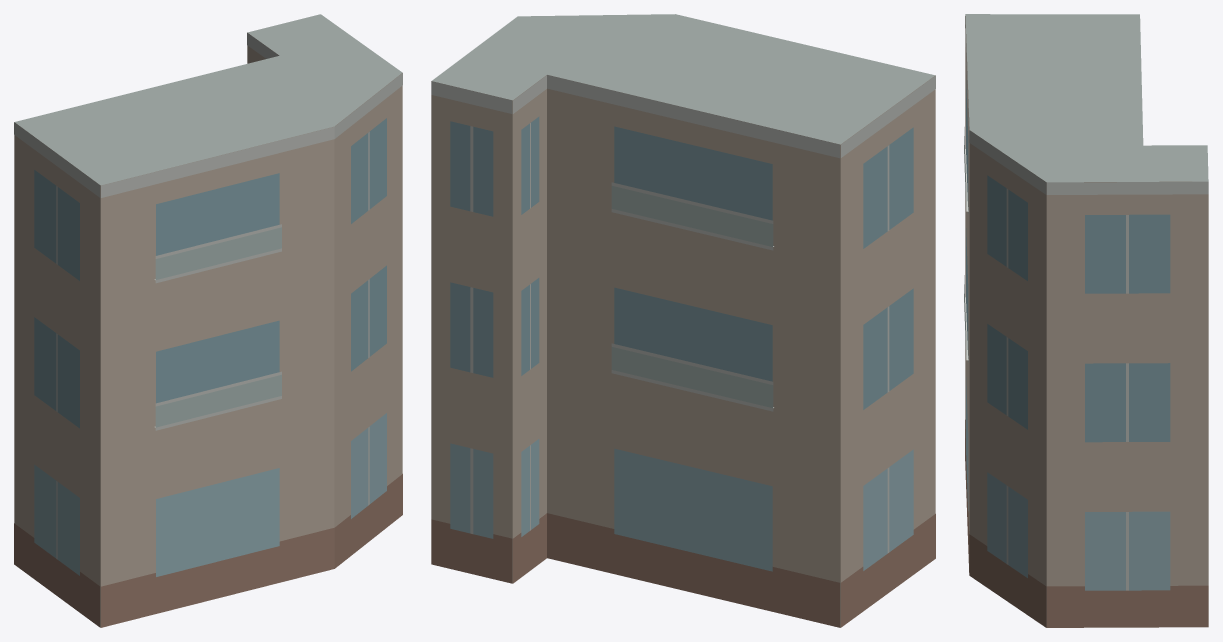
Rendered from survey-upis-32720778.glb.
3 renders of one model, left to right at view 1: azimuth 30°, elevation 25°; view 2: azimuth 150°, elevation 25°; view 3: azimuth 270°, elevation 25°, orthographic. The views are drawn at different scales.
Visible parts, largest first — view 1: survey-upis-32720778.tmp; view 2: survey-upis-32720778.tmp; view 3: survey-upis-32720778.tmp.
Boxes of the visible parts, <box> form: survey-upis-32720778.tmp: <box>14,14,402,627</box>; survey-upis-32720778.tmp: <box>431,14,935,627</box>; survey-upis-32720778.tmp: <box>964,14,1208,627</box>.
Bounding box in the file's own units: 6.89 × 8.5 × 4.23.
